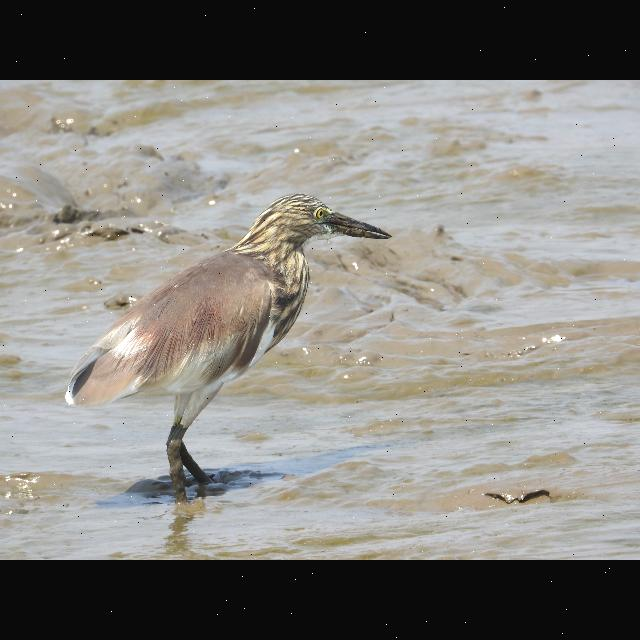heron: (58, 190, 398, 502)
